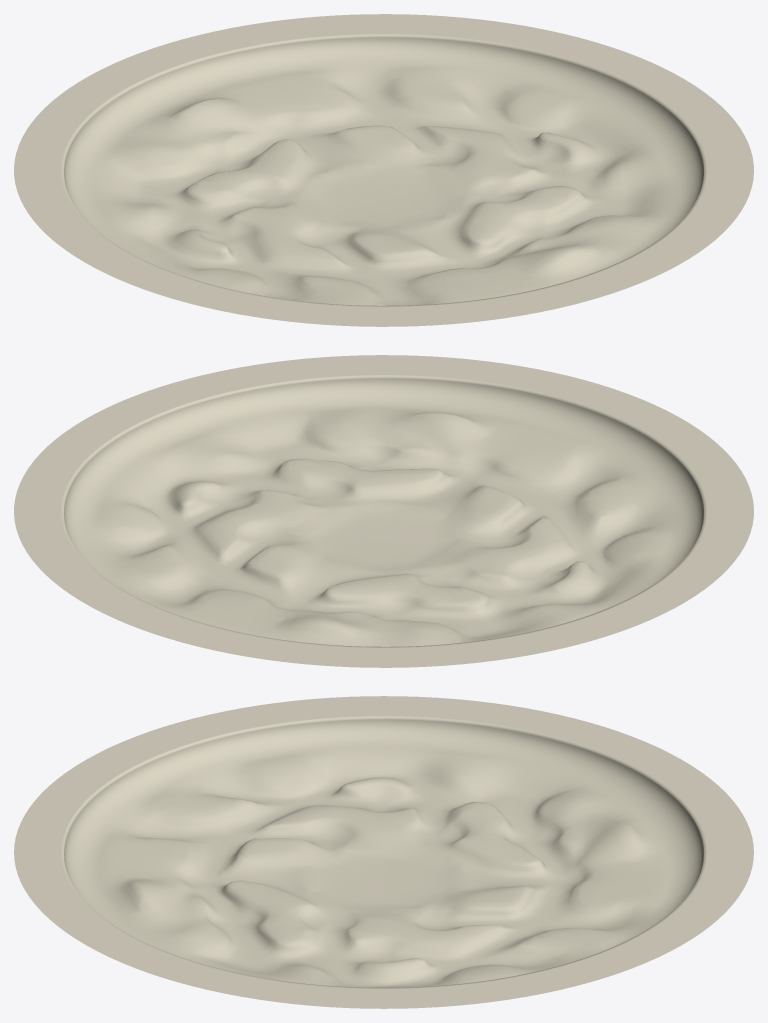
Rendered from Environment_Arena_Ground_21.fbx.
The picture shows the model from 3 angles, top to bottom: view 1: azimuth 30°, elevation 25°; view 2: azimuth 150°, elevation 25°; view 3: azimuth 270°, elevation 25°; orthographic projection.
Parts seen in each view (by area): view 1: Sand; view 2: Sand; view 3: Sand.
Boxes of the visible parts, x1=… form: Sand: x1=14, y1=14, x2=753, y2=326; Sand: x1=14, y1=355, x2=753, y2=667; Sand: x1=14, y1=696, x2=753, y2=1008.
Size of the model in its own units: 47522 by 2146 by 47522.
